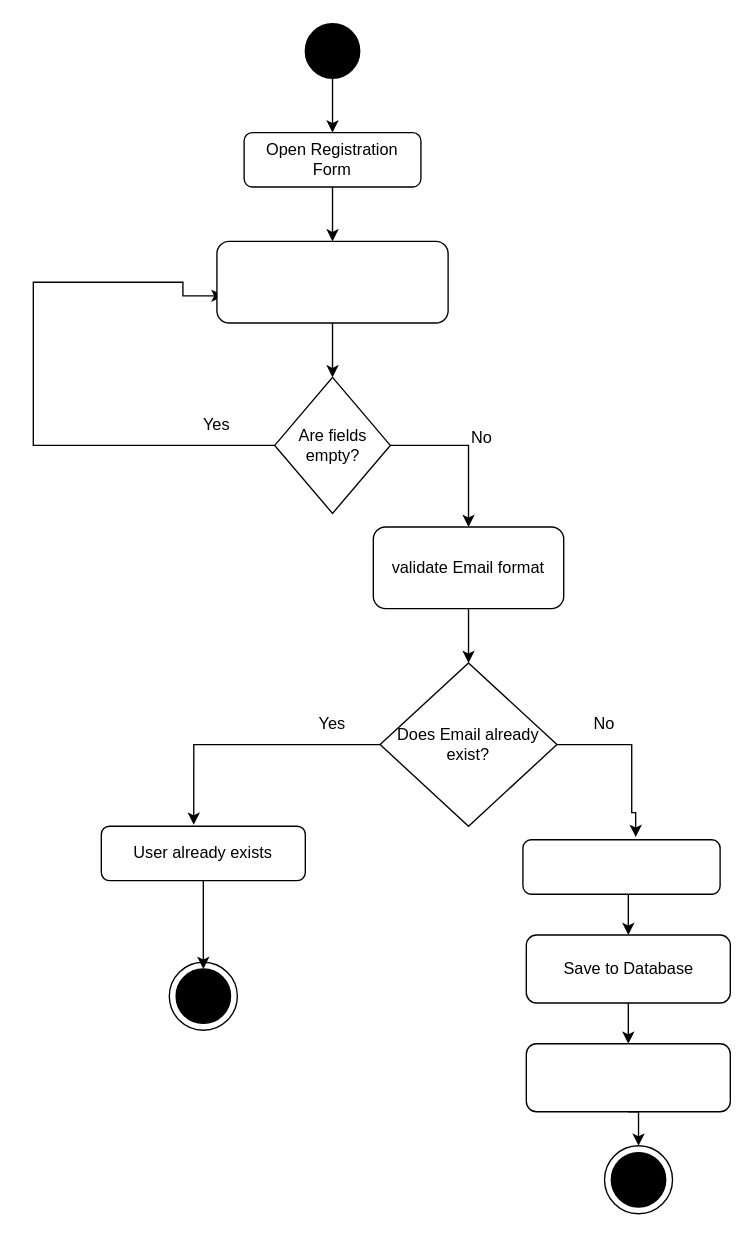
Some shapes in this 755 by 1238 pixel diagram are drawn without their labels. Each missing label, with the centre of its shape:
encrypt password: (621,866)
Enter Details (Name, Phone, Email, Password): (332,281)
Show "Success" Message: (627,1077)
